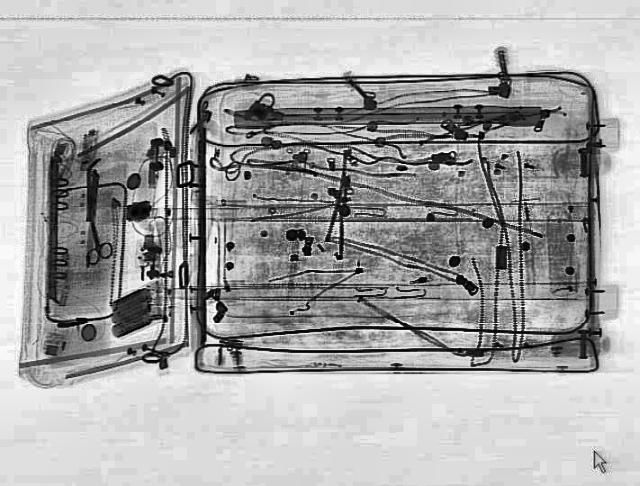Scissors: (73, 219, 115, 265)
